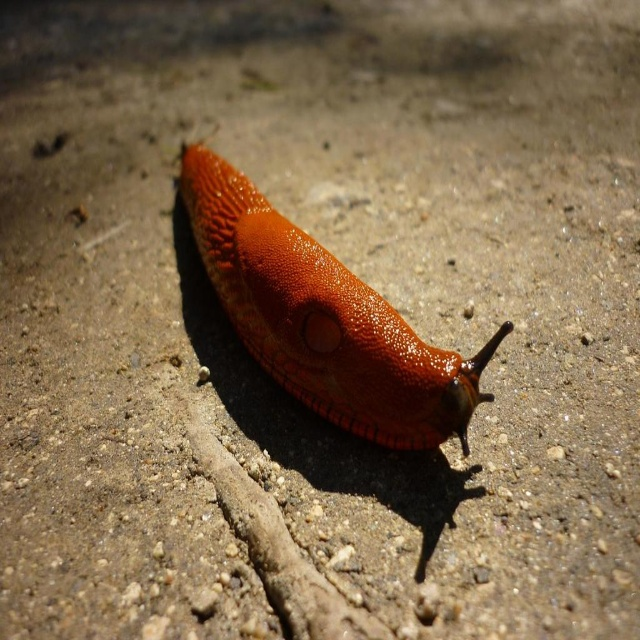Snail: (180, 142, 514, 457)
